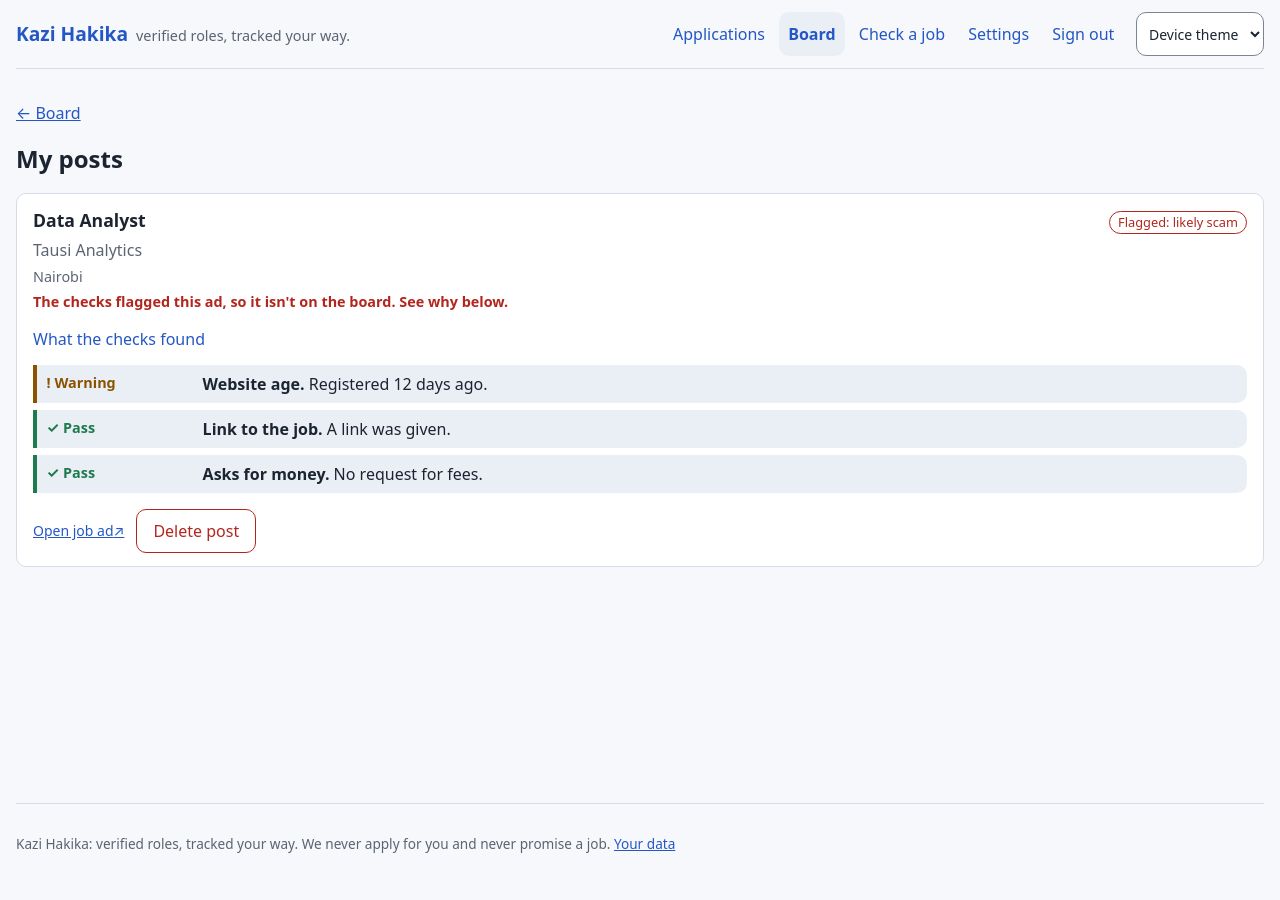
Test: sharing a role › lists my posts and deletes one
Expected: the text "isn't on the board" is shown, [33,292,508,311]
Click the button "Delete post" at (196, 531), box [136,509,256,553]
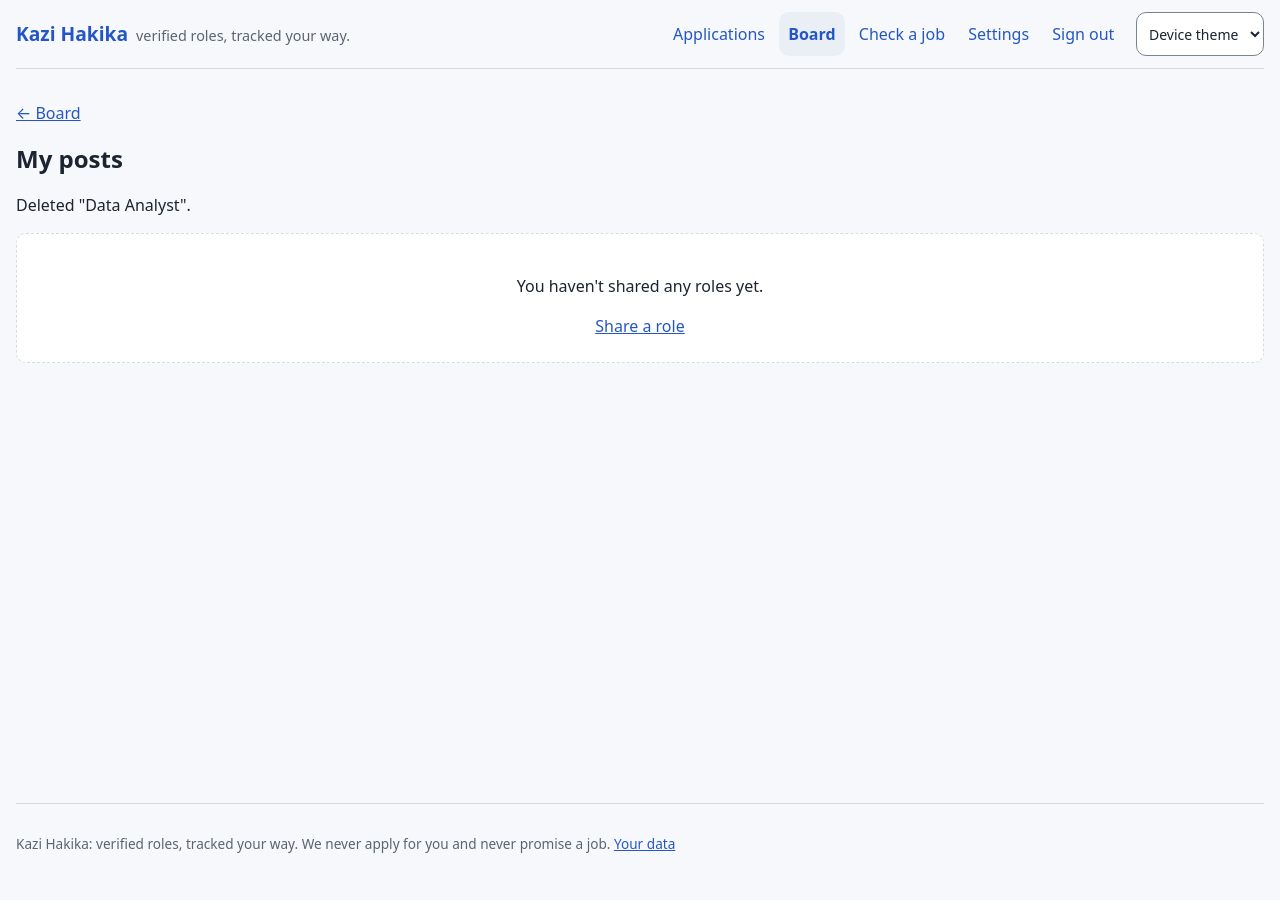
Expected: the text "Deleted \"Data Analyst\"." is shown, [16,194,191,216]
